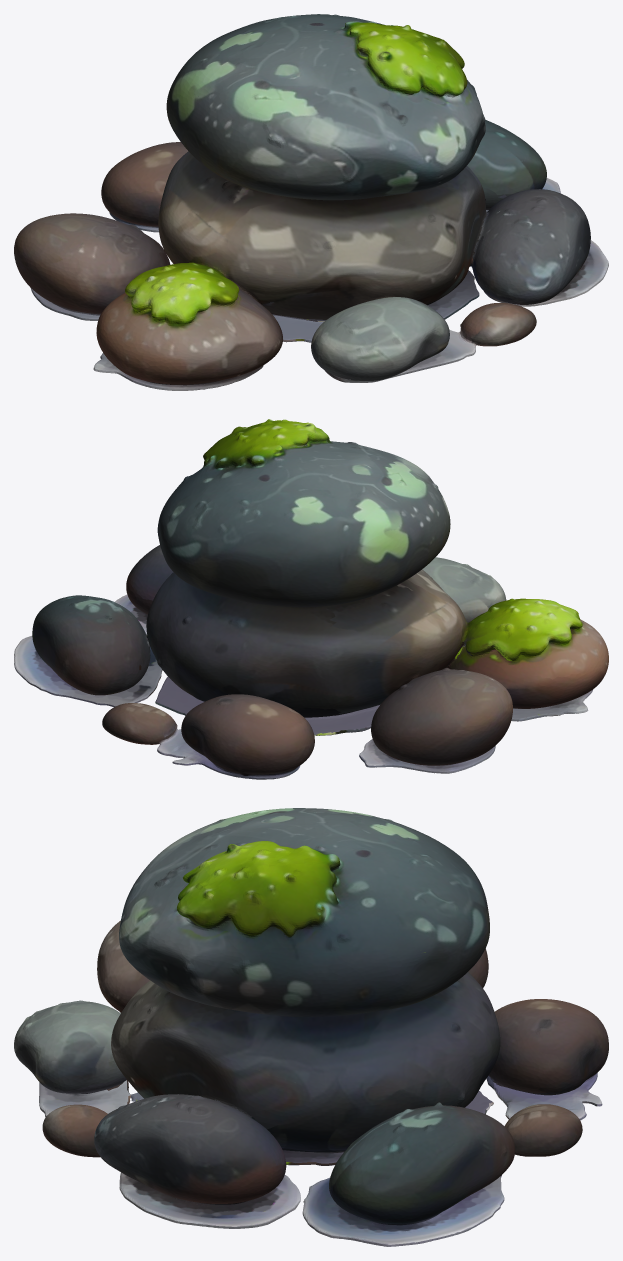
The model's file is rock_flat_paint.glb.
3 views of the same model, one above another, from view 1: azimuth 30°, elevation 25°; view 2: azimuth 150°, elevation 25°; view 3: azimuth 270°, elevation 25° (orthographic). The views are drawn at different scales.
Parts seen in each view (by area): view 1: temp_mesh.ply; view 2: temp_mesh.ply; view 3: temp_mesh.ply.
Boxes of the visible parts, x1,y1,x2,y2 form: temp_mesh.ply: (14, 14, 608, 390); temp_mesh.ply: (14, 419, 608, 779); temp_mesh.ply: (14, 808, 608, 1246).
Bounding box in the file's own units: 1.97 × 0.8669 × 1.69.
Materials: 1 (1 with a texture image).
